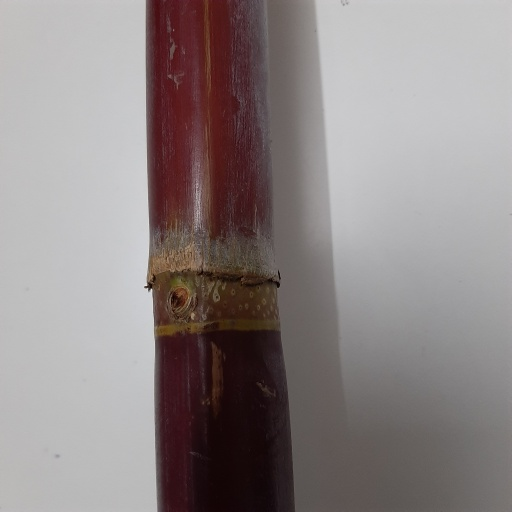Damage_Bud: (165, 285, 191, 318)
